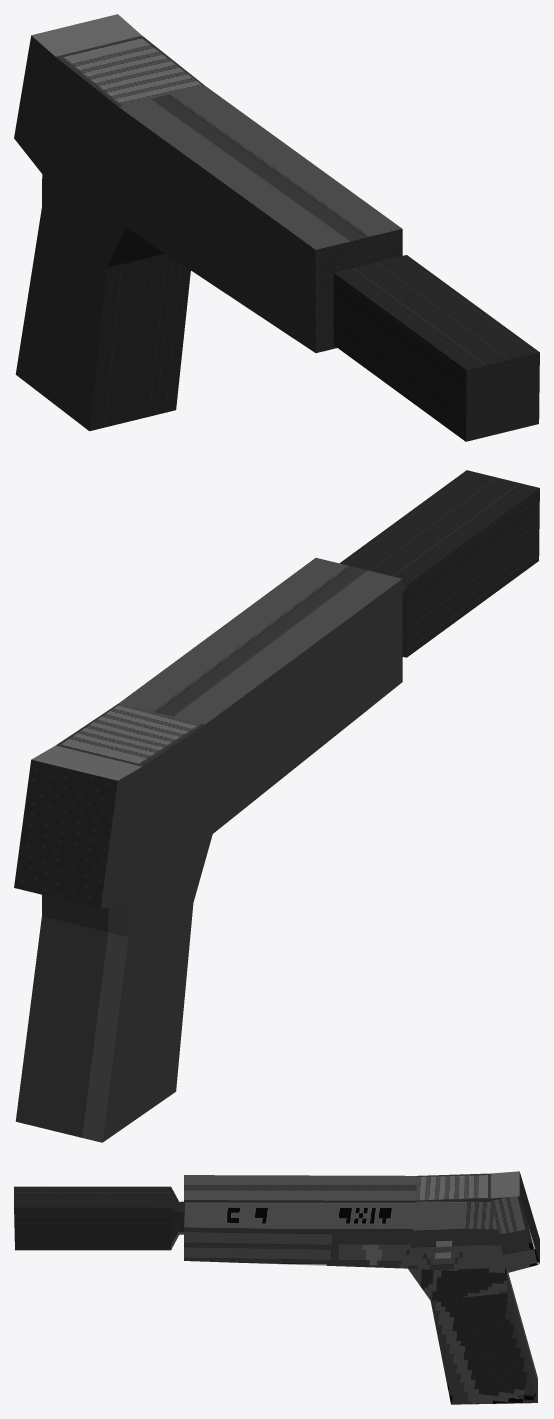
Rendered from socom 2.fbx.
3 views of the same model, one above another, from view 1: azimuth 30°, elevation 25°; view 2: azimuth 150°, elevation 25°; view 3: azimuth 270°, elevation 25° (orthographic). The views are drawn at different scales.
Visible parts, largest first — view 1: Cube; view 2: Cube; view 3: Cube.
Part boxes in pixels (x1,y1,x2,y2): Cube: (14,14,539,441); Cube: (14,470,539,1142); Cube: (14,1171,539,1404).
Bounding box in the file's own units: 68.84 × 268 × 613.
